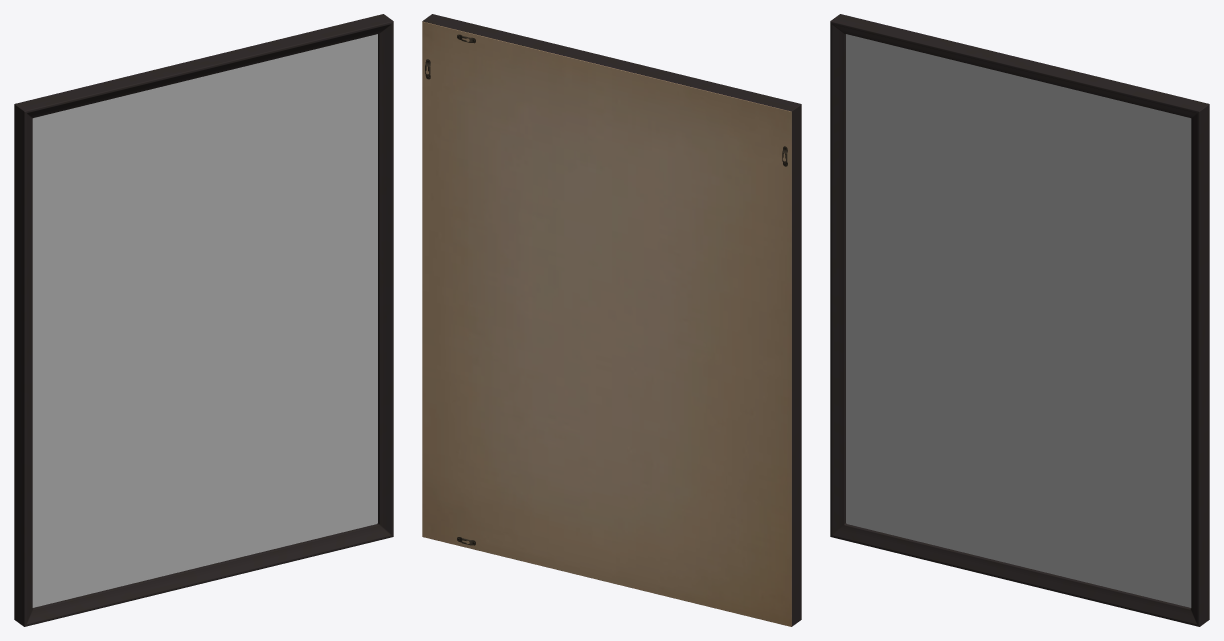
The model's file is abo-B07RPPB6XV.glb.
3 views of the same model, side by side, from view 1: azimuth 30°, elevation 25°; view 2: azimuth 150°, elevation 25°; view 3: azimuth 330°, elevation 25° (orthographic).
Bounding box in the file's own units: 0.762 × 1.02 × 0.041.
Materials: 1 (1 with a texture image).
